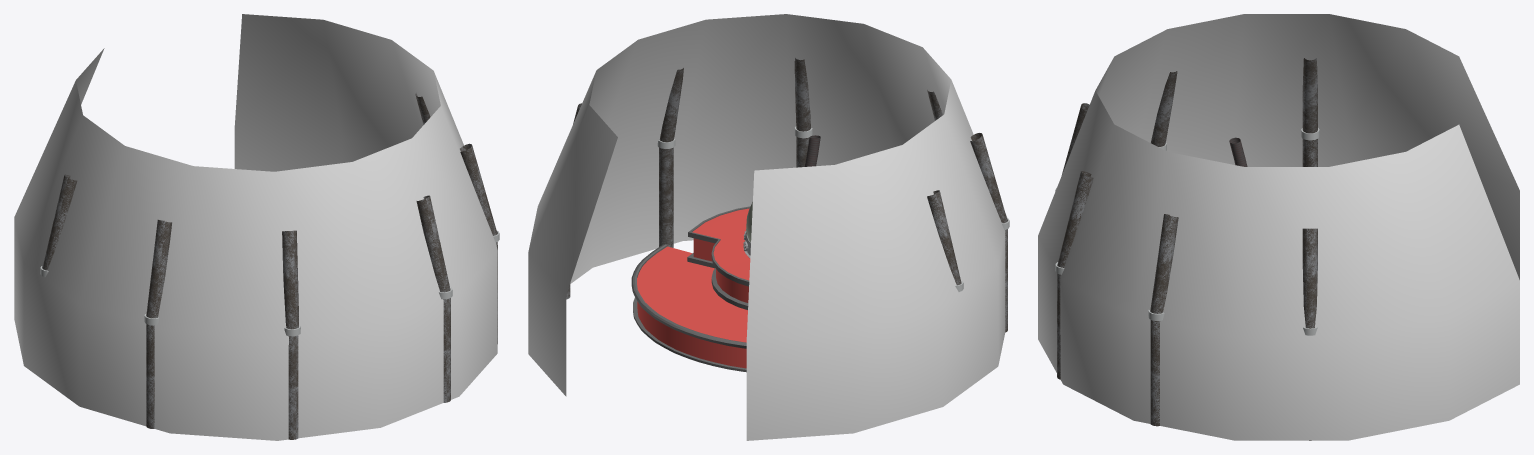
The model's file is FinalWholeRoom 1.fbx.
The picture shows the model from 3 angles, left to right: view 1: azimuth 30°, elevation 25°; view 2: azimuth 150°, elevation 25°; view 3: azimuth 270°, elevation 25°; orthographic projection. The views are drawn at different scales.
Parts seen in each view (by area): view 1: Cylinder.034, Cylinder.023, Cylinder.022, Cylinder.021; view 2: Cylinder.034, Cylinder.012, Cylinder.003, Cylinder.022, Cylinder.023, Cylinder.021; view 3: Cylinder.034, Cylinder.022, Cylinder.021, Cylinder.023.
Boxes of the visible parts, x1=… form: Cylinder.034: x1=14, y1=14, x2=497, y2=440; Cylinder.023: x1=282, y1=195, x2=452, y2=439; Cylinder.022: x1=144, y1=143, x2=499, y2=428; Cylinder.021: x1=40, y1=92, x2=430, y2=277; Cylinder.034: x1=528, y1=14, x2=1007, y2=440; Cylinder.012: x1=631, y1=244, x2=747, y2=372; Cylinder.003: x1=687, y1=206, x2=750, y2=309; Cylinder.022: x1=657, y1=68, x2=1009, y2=332; Cylinder.023: x1=794, y1=58, x2=942, y2=167; Cylinder.021: x1=566, y1=103, x2=963, y2=299; Cylinder.034: x1=1038, y1=14, x2=1519, y2=440; Cylinder.022: x1=1148, y1=71, x2=1178, y2=426; Cylinder.021: x1=1301, y1=58, x2=1319, y2=440; Cylinder.023: x1=1055, y1=103, x2=1093, y2=379.
Size of the model in its own units: 7239 by 4145 by 7251.
